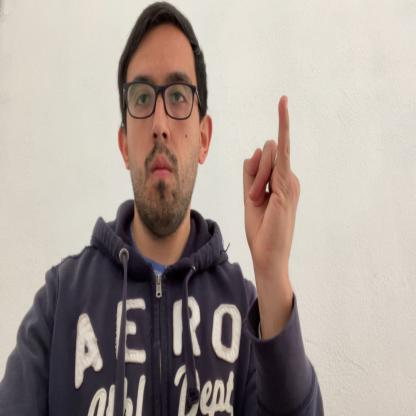I: (244, 95, 300, 276)
